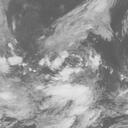cyclone: (38, 43, 97, 98)
